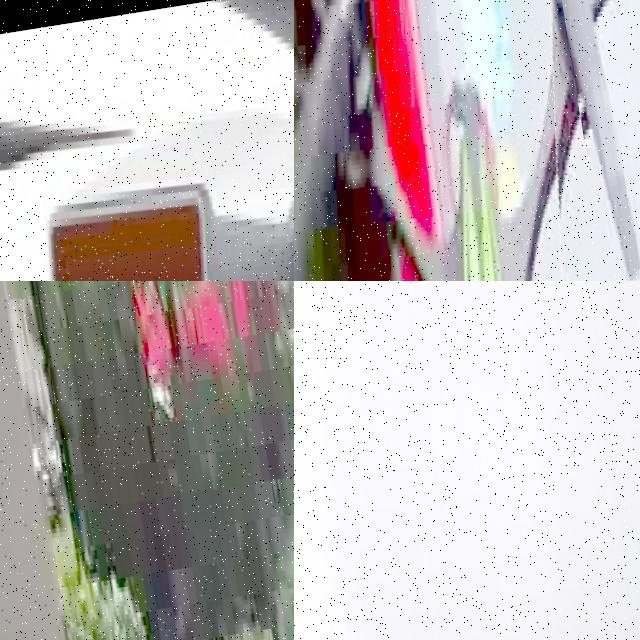drone: (294, 0, 619, 281), (0, 0, 294, 281)
